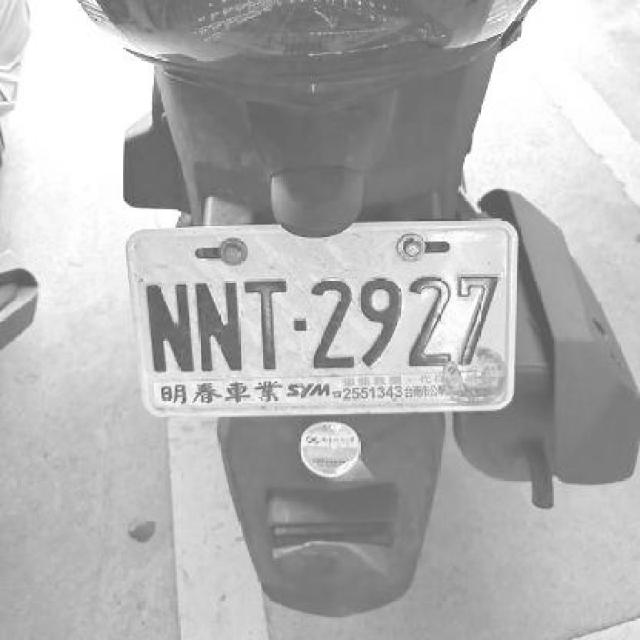-: (292, 312, 310, 332)
2: (403, 274, 454, 372), (306, 271, 352, 371)
9: (354, 274, 403, 366)
N: (192, 278, 245, 376), (143, 282, 195, 376)
T: (246, 277, 291, 371)
Z: (456, 268, 502, 364)
